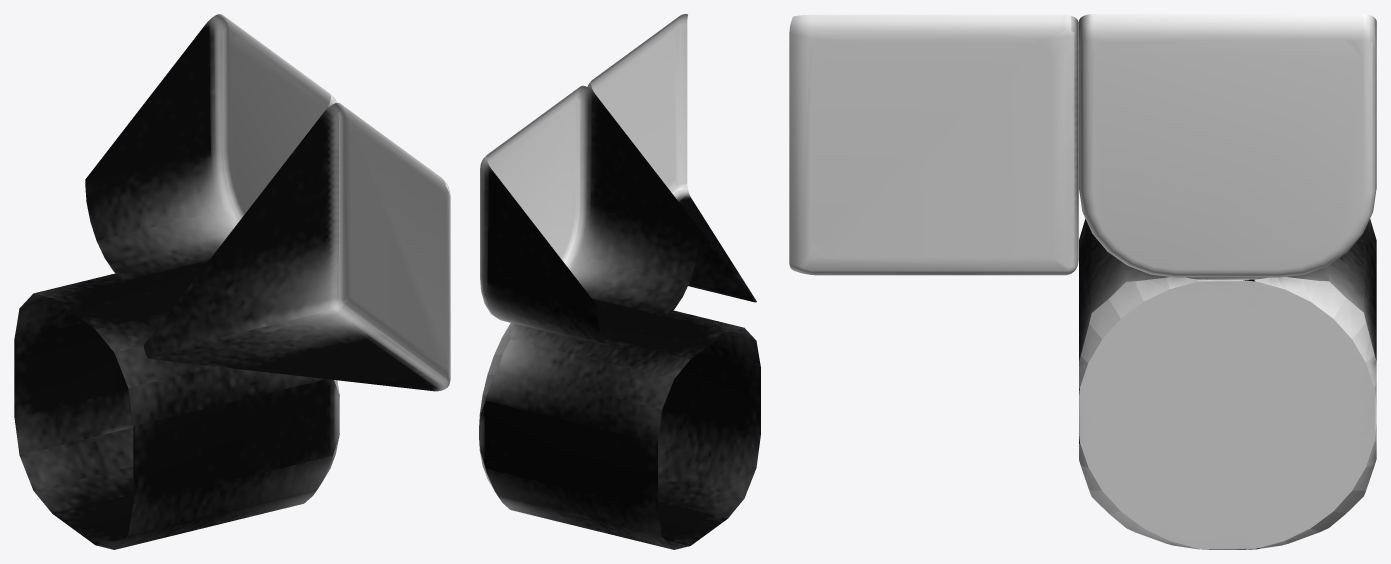
The model's file is pieces.glb.
The picture shows the model from 3 angles, left to right: view 1: azimuth 30°, elevation 25°; view 2: azimuth 150°, elevation 25°; view 3: azimuth 270°, elevation 25°; orthographic projection. The views are drawn at different scales.
Visible parts, largest first — view 1: Cube.002, Corner Cut, Edge Cut; view 2: Cube.002, Edge Cut, Corner Cut; view 3: Cube.002, Corner Cut, Edge Cut.
Part boxes in pixels (bbox=[...]): Cube.002: bbox=[14, 260, 339, 549]; Corner Cut: bbox=[143, 102, 450, 391]; Edge Cut: bbox=[85, 14, 336, 313]; Cube.002: bbox=[479, 299, 760, 549]; Edge Cut: bbox=[480, 85, 699, 347]; Corner Cut: bbox=[587, 14, 756, 302]; Cube.002: bbox=[1079, 218, 1376, 549]; Corner Cut: bbox=[789, 14, 1078, 275]; Edge Cut: bbox=[1079, 14, 1376, 277].
Size of the model in its own units: 1.02 by 1.98 by 1.97.
Materials: 2 (2 with a texture image).
